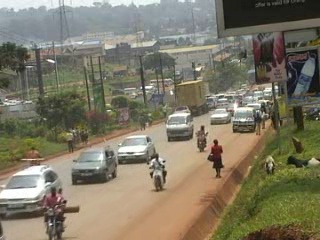Car: (0, 163, 65, 217), (71, 144, 118, 183), (115, 133, 157, 165), (209, 107, 232, 126), (220, 98, 242, 114)
Motorcycle: (37, 187, 79, 239), (144, 151, 168, 192), (17, 144, 49, 168), (193, 122, 211, 153)
